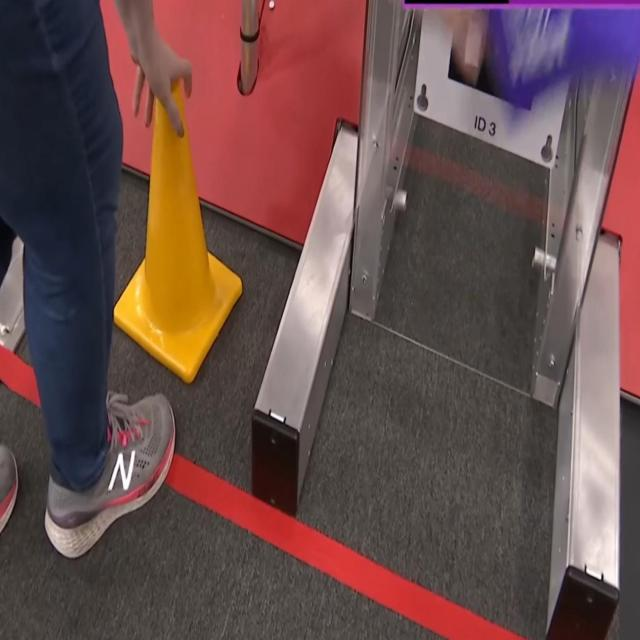frc_cone: (112, 75, 245, 388)
frc_cube: (488, 2, 632, 110)
